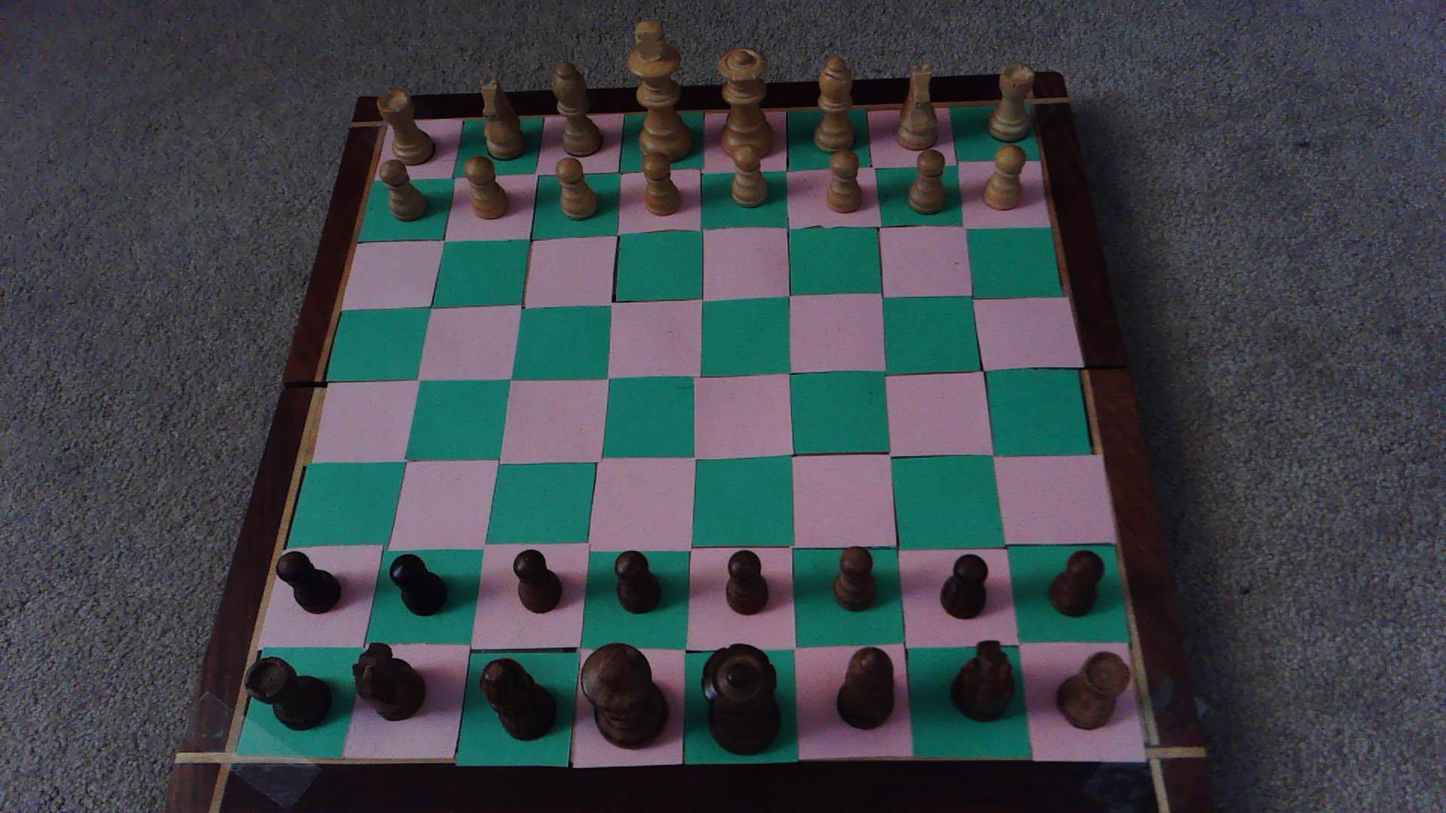dark_piece: (578, 643, 668, 748), (702, 644, 780, 754), (480, 658, 557, 740), (248, 657, 331, 729), (352, 642, 426, 719), (1057, 651, 1130, 729), (950, 640, 1014, 721), (837, 647, 893, 729), (275, 550, 340, 613), (1048, 550, 1104, 617), (389, 553, 447, 616), (940, 554, 987, 619), (514, 550, 562, 613), (615, 550, 660, 612), (726, 550, 768, 614), (833, 547, 875, 611)
white_piece: (626, 20, 691, 162), (720, 48, 773, 159), (553, 62, 602, 156), (378, 89, 434, 165), (813, 57, 855, 154), (989, 62, 1033, 142), (482, 79, 523, 160), (899, 64, 936, 151), (379, 158, 427, 221), (463, 155, 508, 219), (984, 144, 1026, 209), (555, 157, 596, 220), (909, 148, 946, 215), (826, 150, 862, 213), (642, 154, 679, 215), (731, 146, 768, 207)
